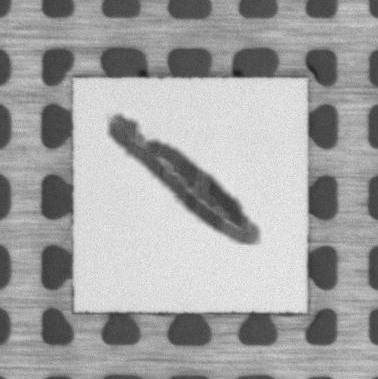DIE_INK: (106, 114, 261, 246)
